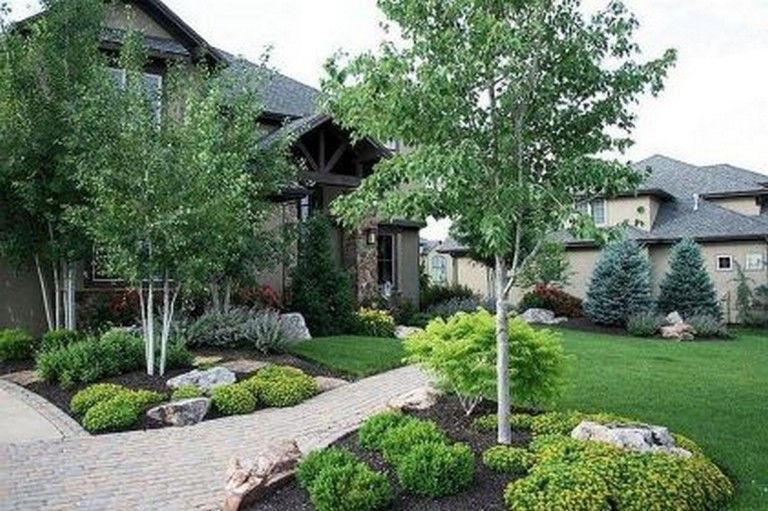tree: (327, 1, 665, 446), (61, 34, 278, 374), (1, 1, 130, 337)
